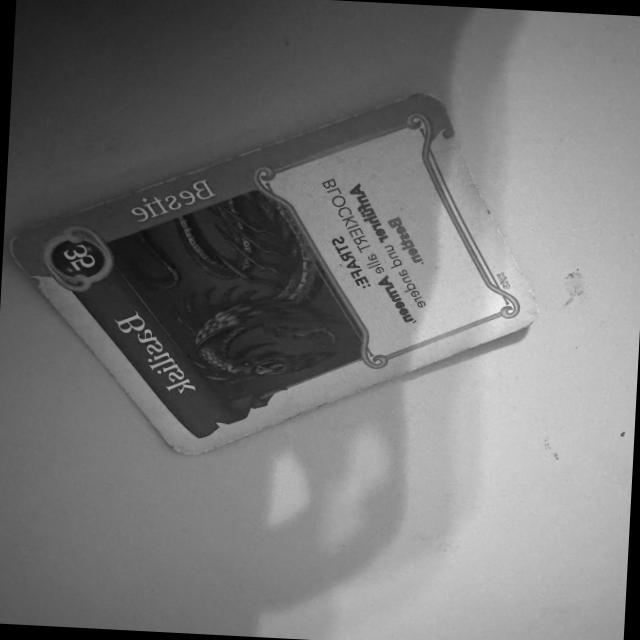Basilisk: (4, 88, 549, 459)
